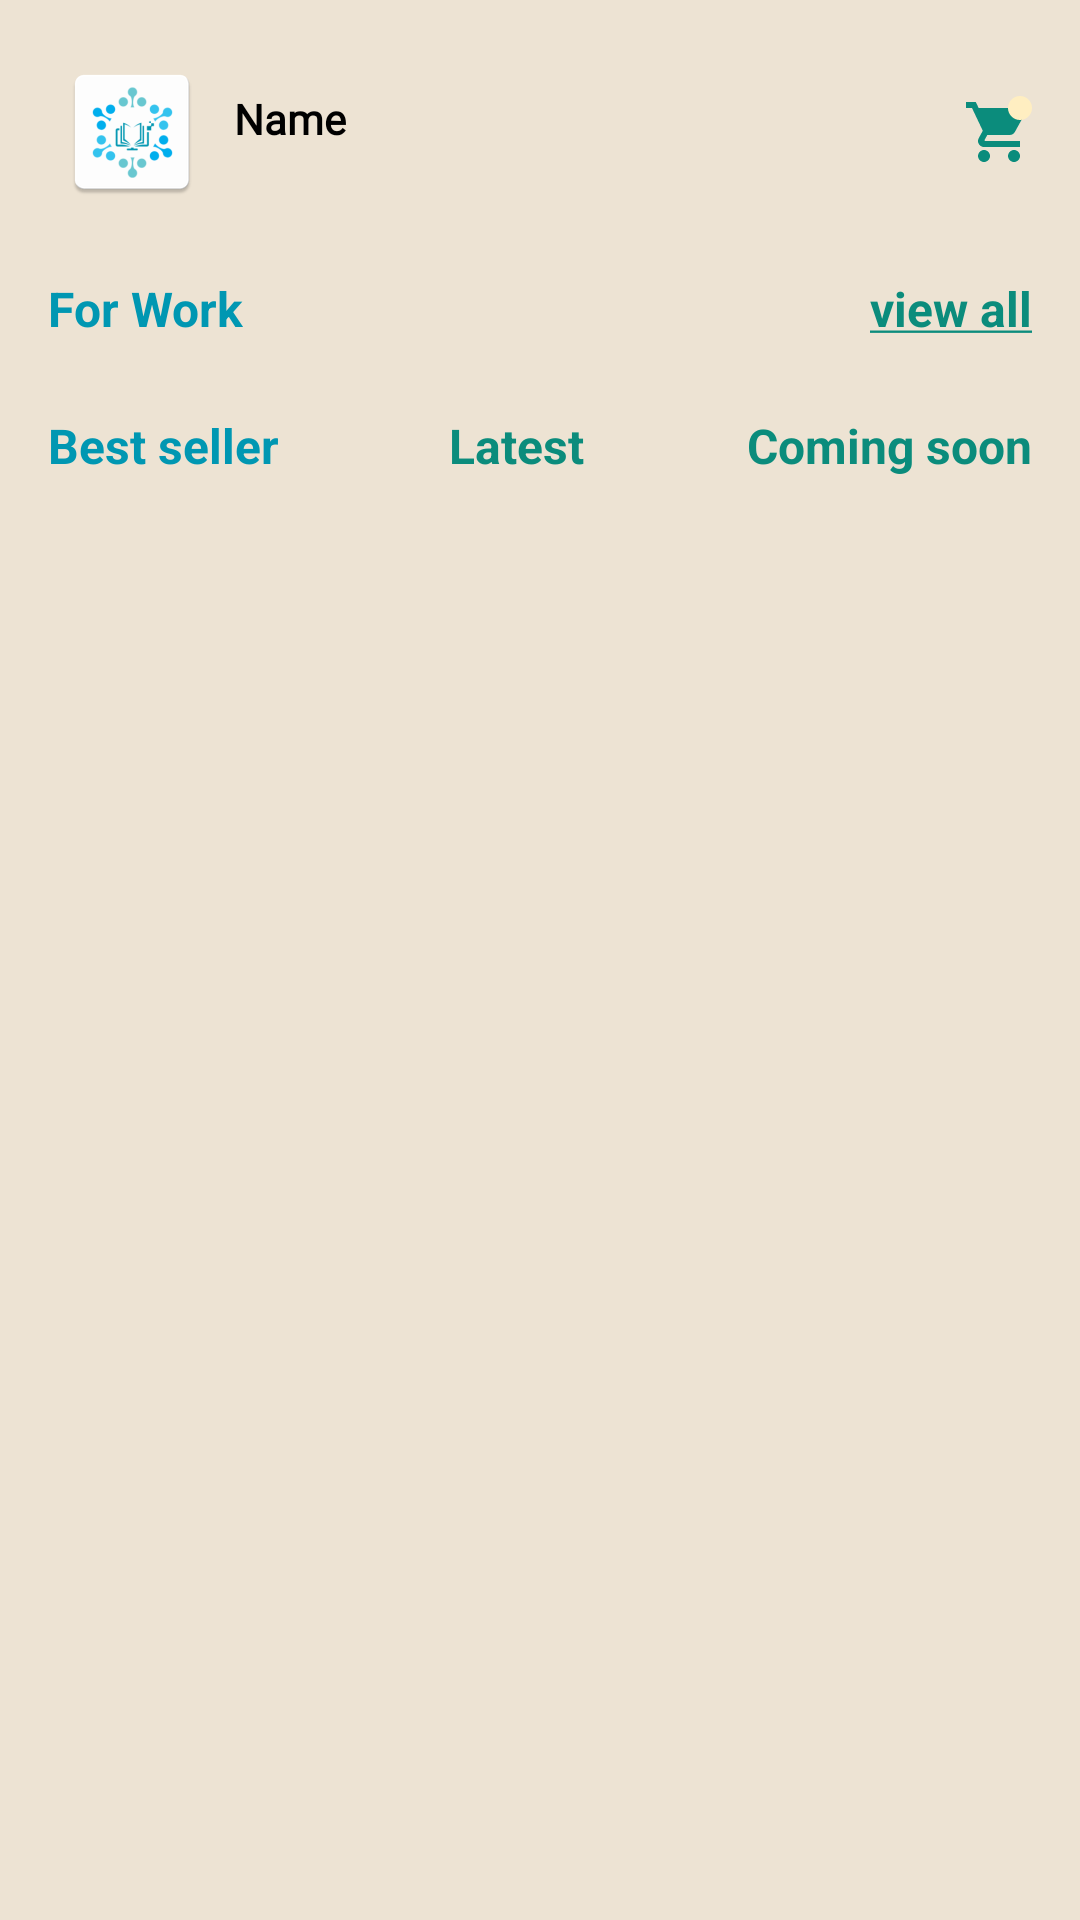

Icons on this 1080px×1920px Android screen, each with the point to tap as (x=x, y=y):
buy: (x=994, y=132)
